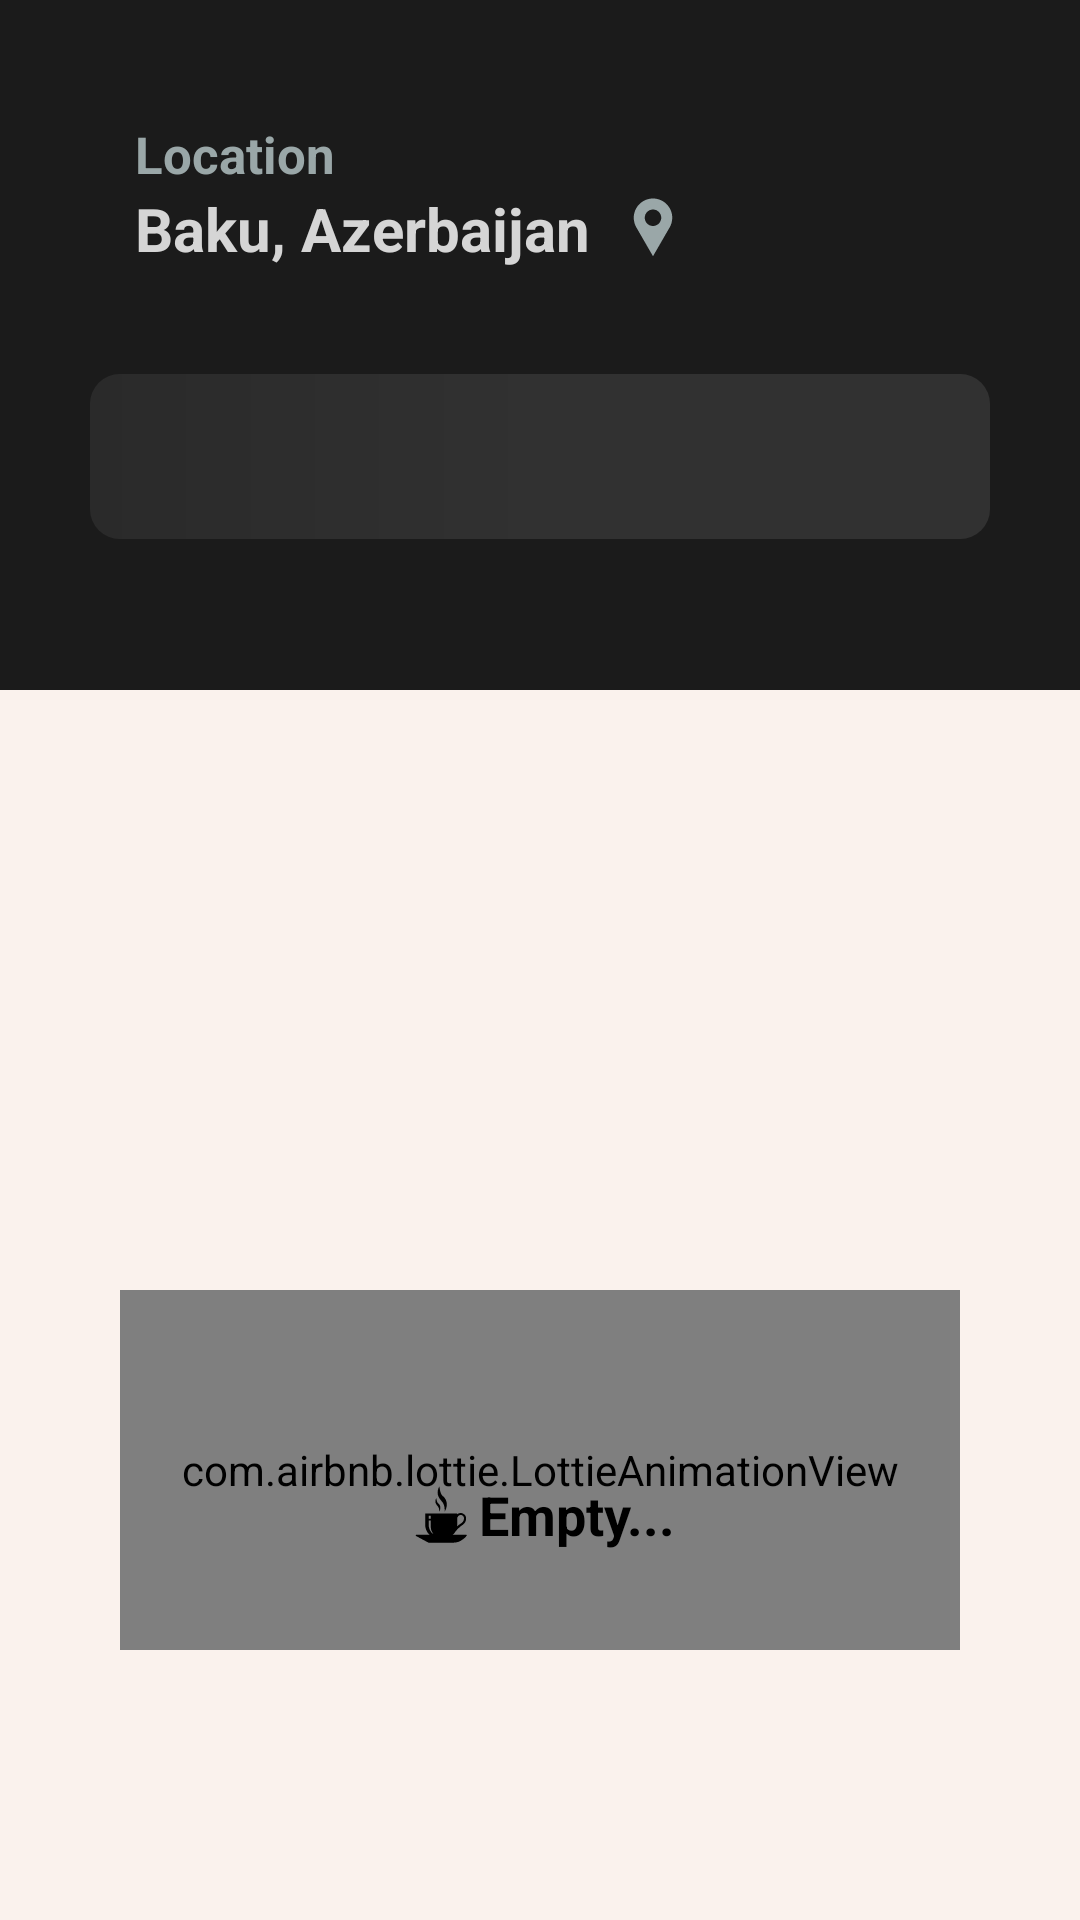

Locate icon controls on the screen. Image size 1080x1920, boxes as Rect(x1, y1, x2, y2).
location menu: Rect(633, 198, 673, 256)
